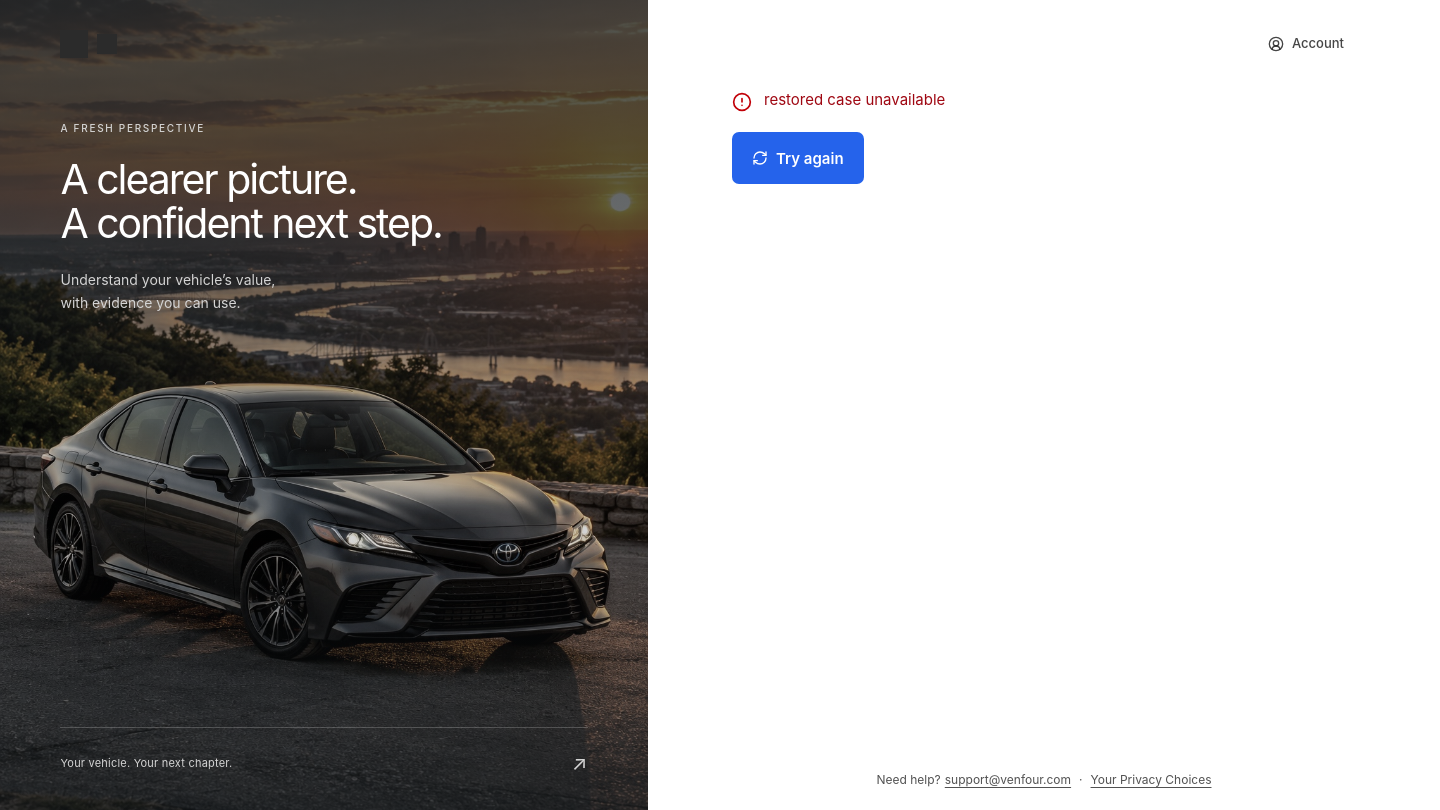
Test: DiminishedValueStartFlow controller › gates and retries a failed restored case without an explicit URL
Expected: the text "restored case unavailable" is shown, [764,88,945,112]
Expected: the field labelled "Name" is not shown
Click the button "Try again": [798, 158] box [732,132,864,184]
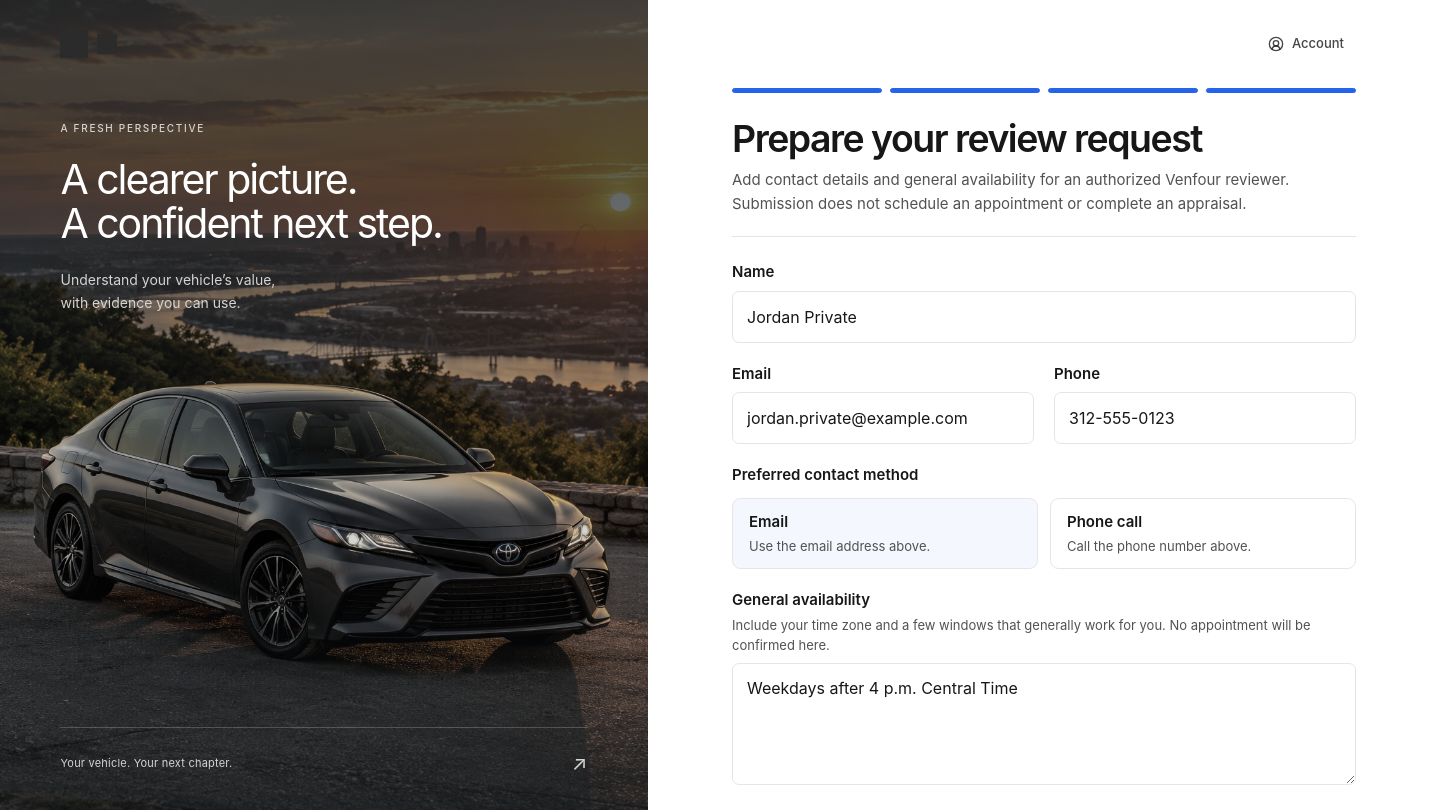
Now the field labelled "Name" holds "Jordan Private", box [732,291,1356,343]
